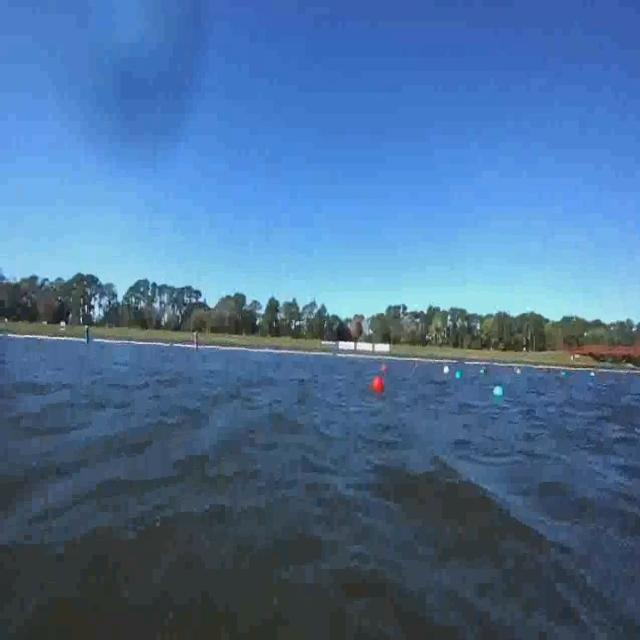green-buoy: (493, 385, 504, 399), (456, 369, 463, 378)
red-buoy: (373, 377, 386, 395)
yellow-buoy: (442, 364, 450, 376)
